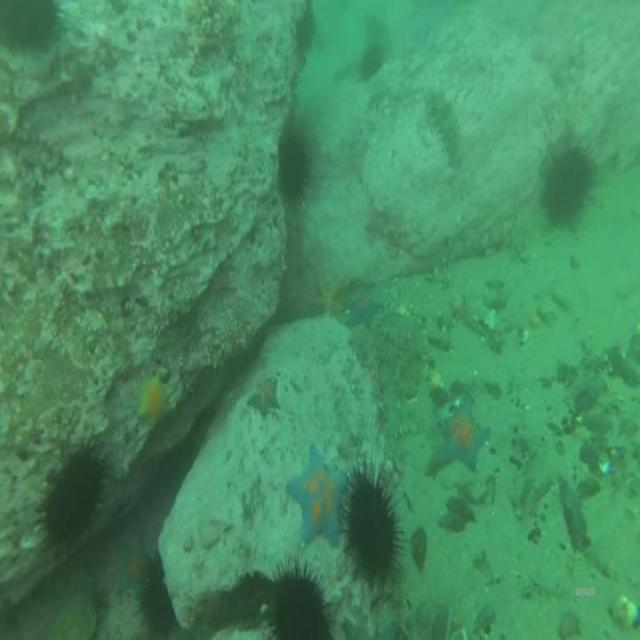echinus: (46, 449, 105, 542), (348, 476, 397, 574), (270, 573, 327, 640), (545, 148, 591, 223), (0, 0, 53, 52), (143, 561, 173, 640), (281, 134, 307, 202)
holothurian: (424, 87, 465, 167), (385, 397, 430, 439)
starfish: (287, 446, 345, 550), (444, 401, 486, 471), (118, 542, 150, 602), (137, 374, 171, 426), (307, 277, 341, 319), (248, 379, 281, 417), (347, 291, 381, 327)
